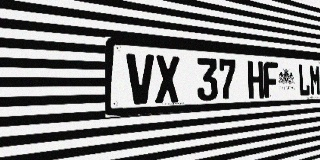3: (197, 57, 218, 101)
7: (218, 59, 237, 100)
F: (263, 62, 278, 98)
H: (248, 61, 264, 99)
L: (298, 64, 310, 96)
M: (309, 64, 320, 96)
V: (126, 53, 154, 105)
X: (155, 55, 180, 103)
